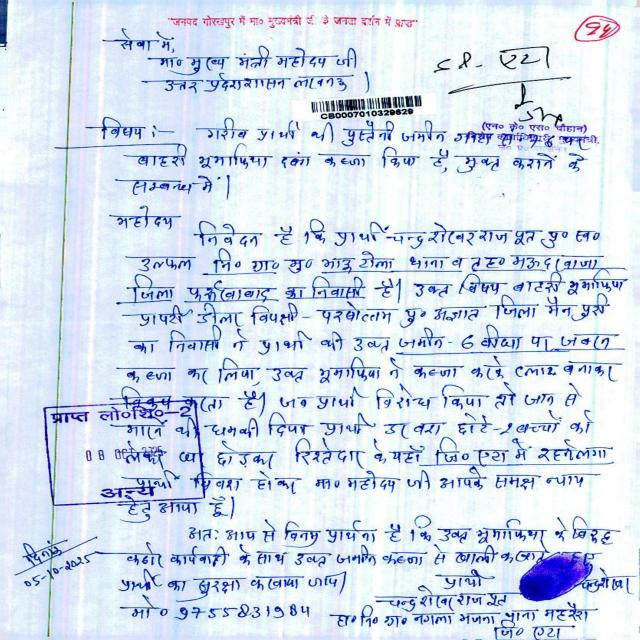antritgovtstamp: (41, 405, 211, 506)
barcode: (302, 92, 436, 122)
fingerprint: (519, 546, 597, 602)
